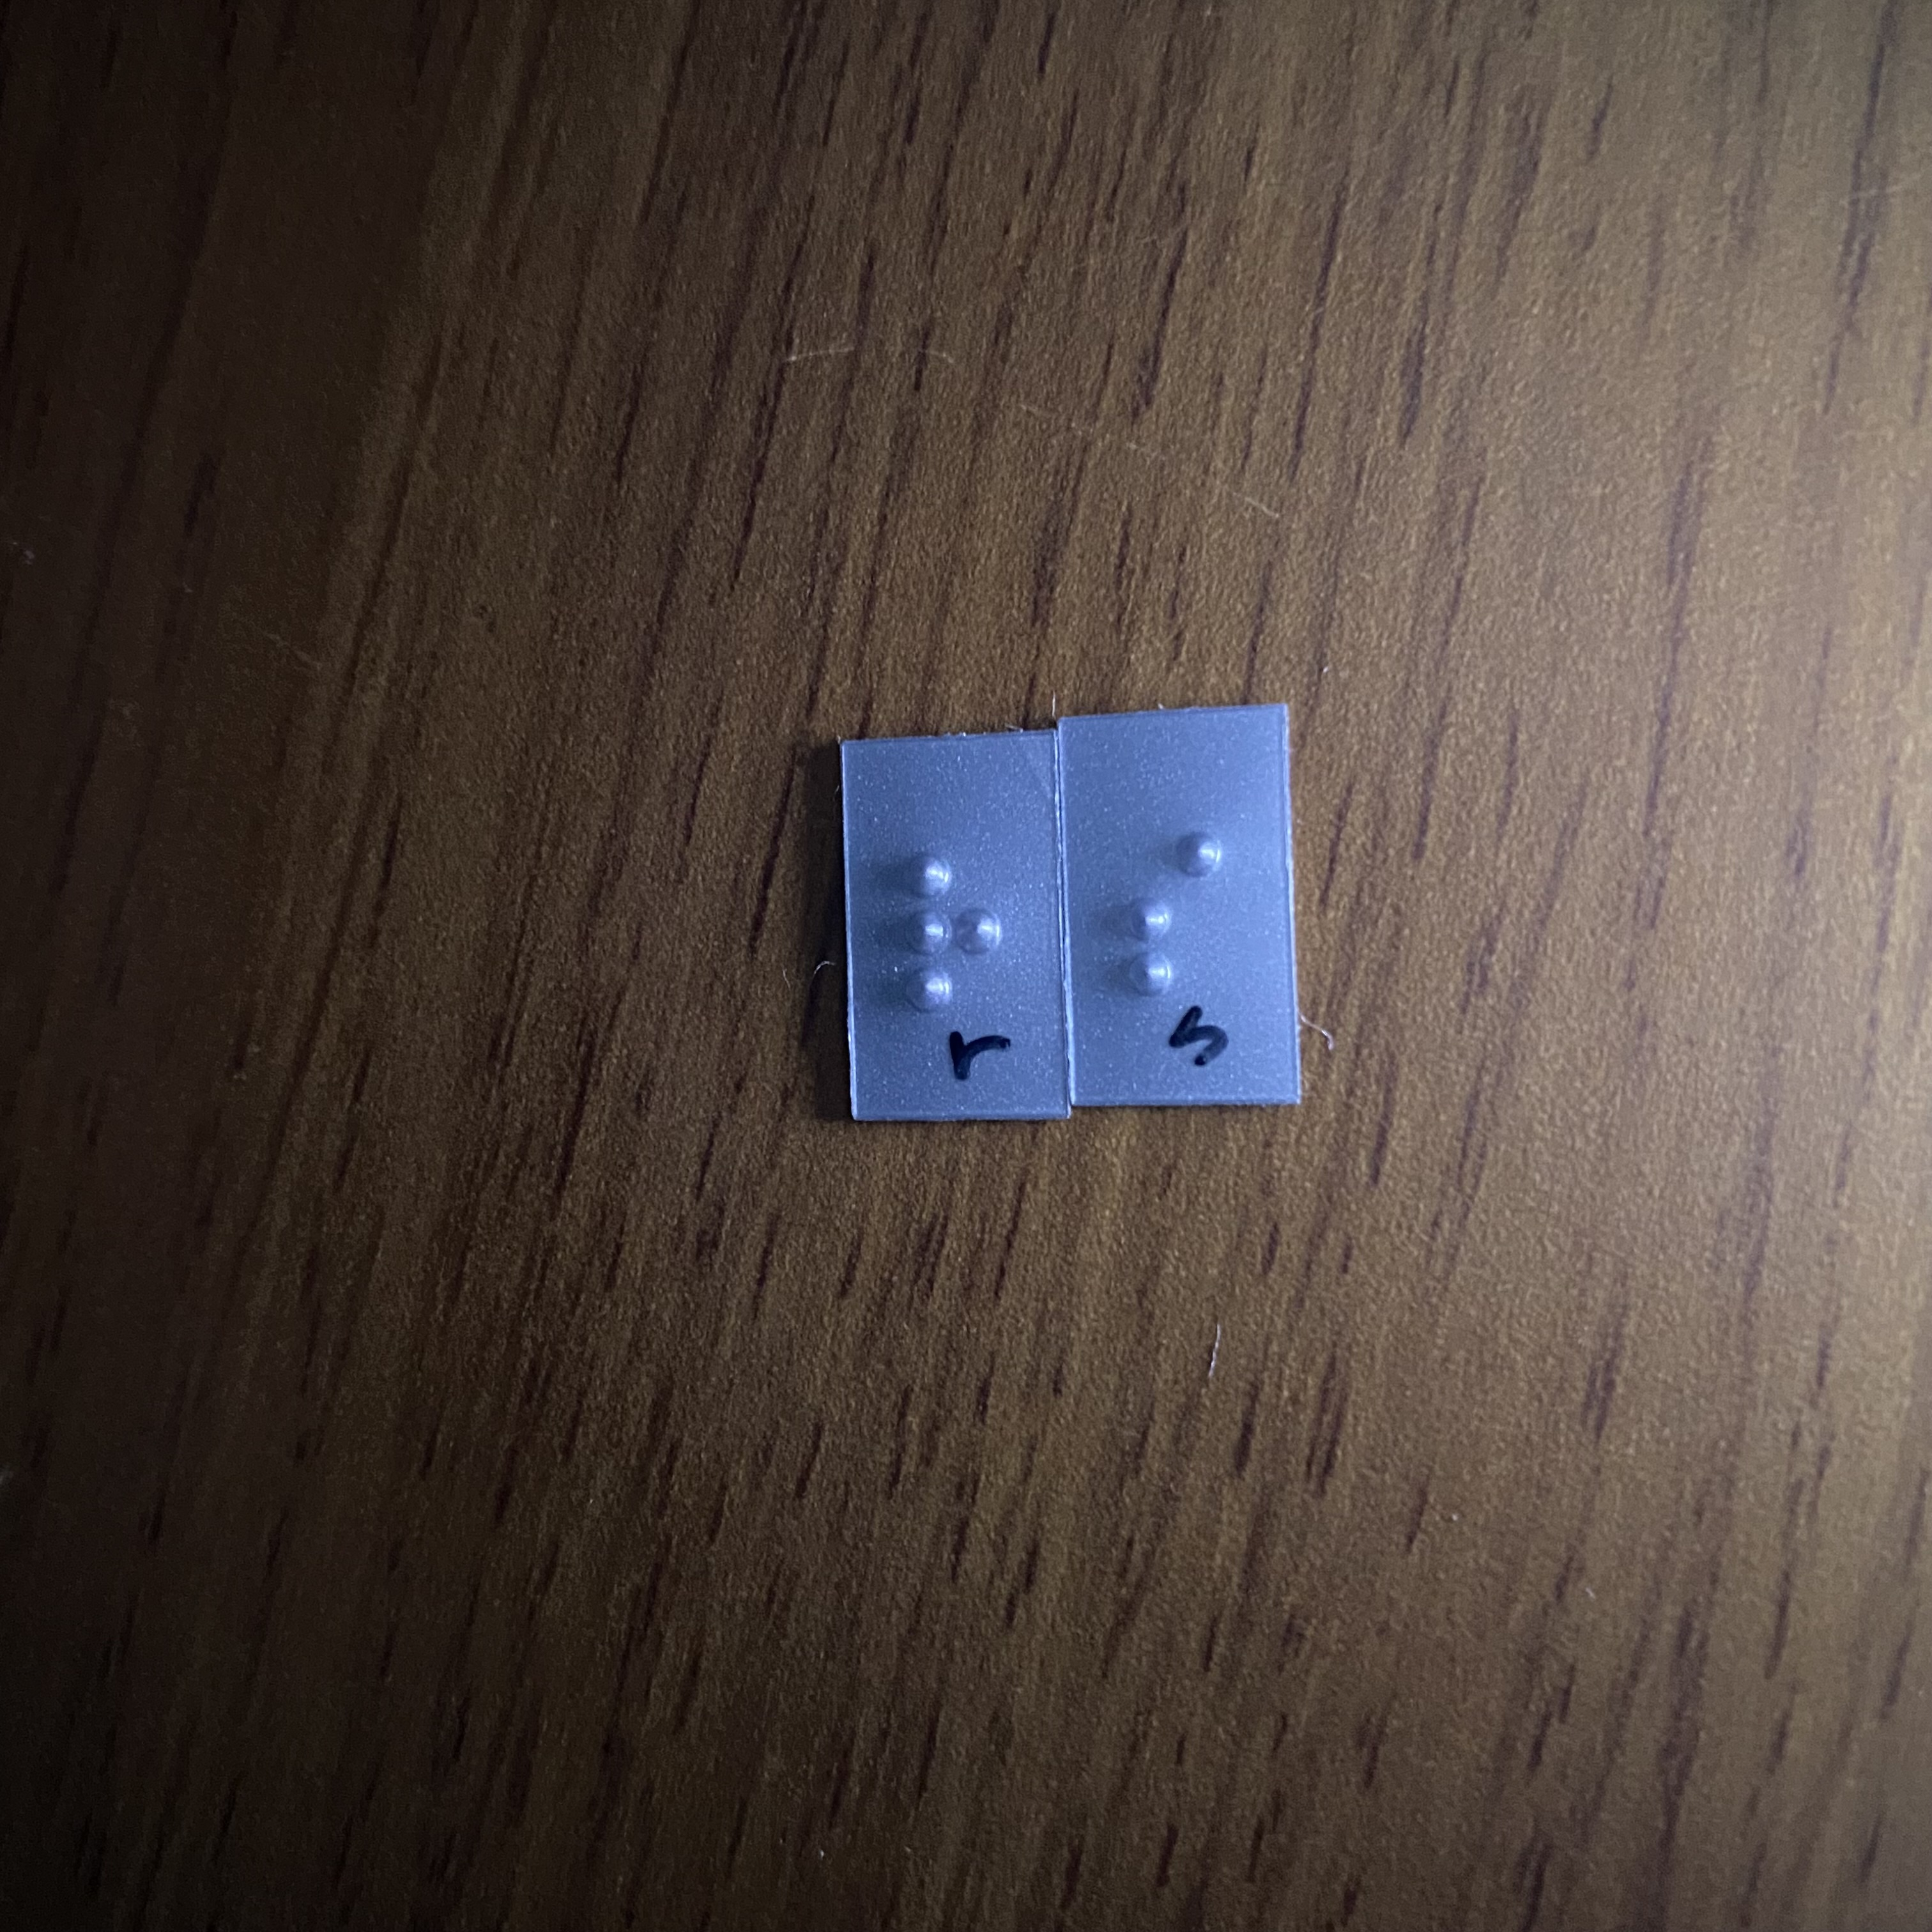r: (877, 841, 1020, 1029)
s: (1100, 806, 1239, 1013)
